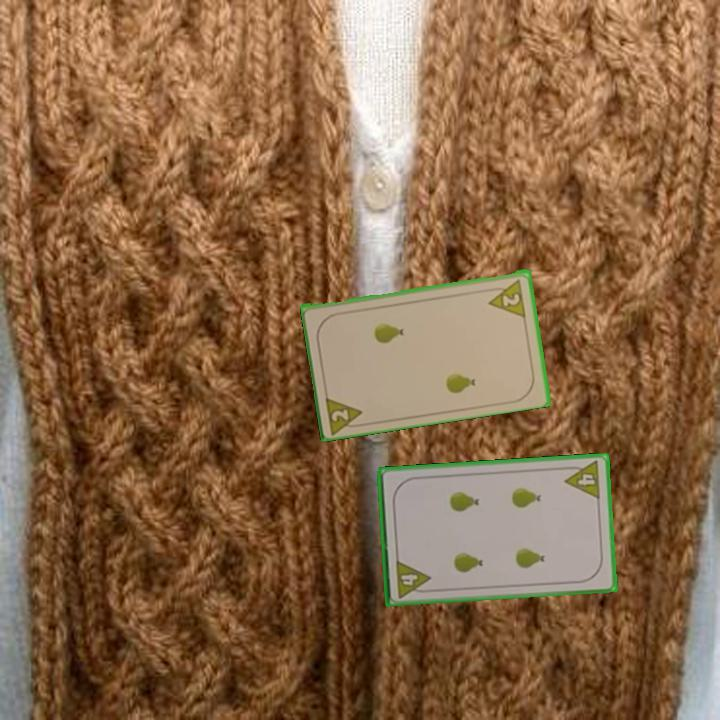2p: (322, 391, 368, 435), (484, 275, 529, 319)
4p: (561, 457, 603, 502), (392, 556, 433, 601)
